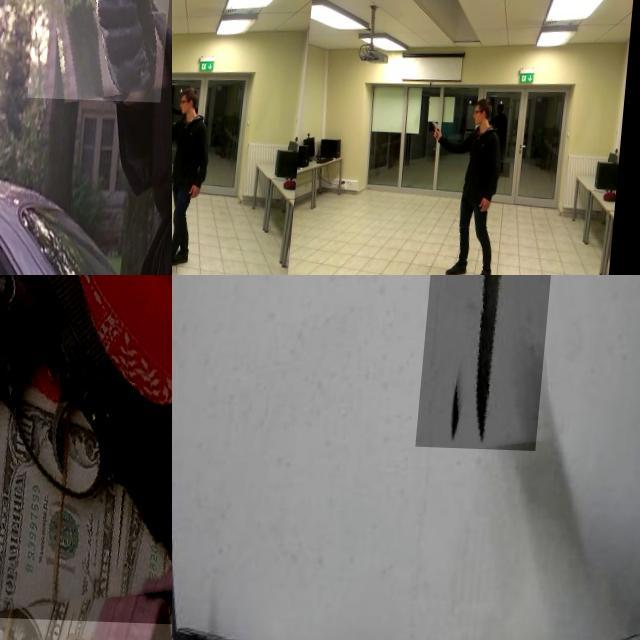-: (423, 275, 570, 468)
gun-knife-thesis - v11 Yolov5 augmented: (0, 275, 172, 622), (32, 0, 172, 134), (450, 0, 474, 11), (438, 112, 450, 134), (172, 0, 188, 11), (172, 103, 180, 125)
